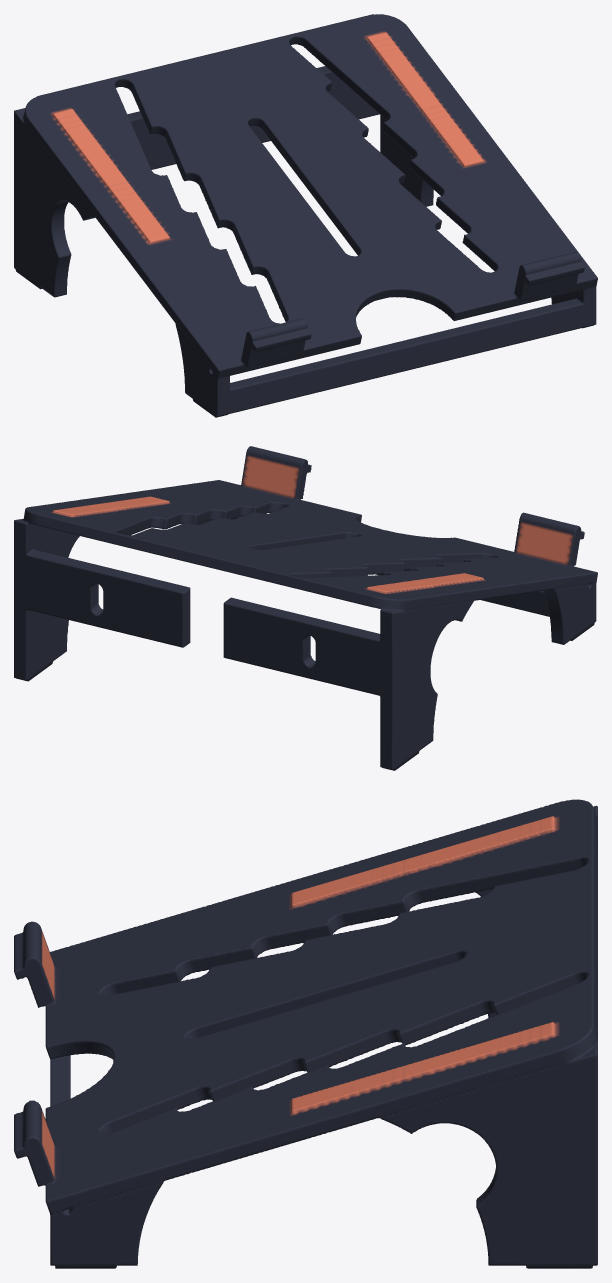
3 renders of one model, top to bottom at view 1: azimuth 30°, elevation 25°; view 2: azimuth 150°, elevation 25°; view 3: azimuth 270°, elevation 25°, orthographic. The views are drawn at different scales.
Visible parts, largest first — view 1: Area (2); view 2: Area (2); view 3: Area (2).
Part boxes in pixels (bbox=[...]): Area (2): bbox=[14, 14, 597, 417]; Area (2): bbox=[14, 446, 597, 770]; Area (2): bbox=[14, 799, 597, 1268].
Bounding box in the file's own units: 230 × 98.39 × 228.
1 material, 1 textured.
